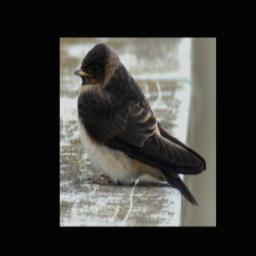Swallow: (73, 42, 207, 209)
